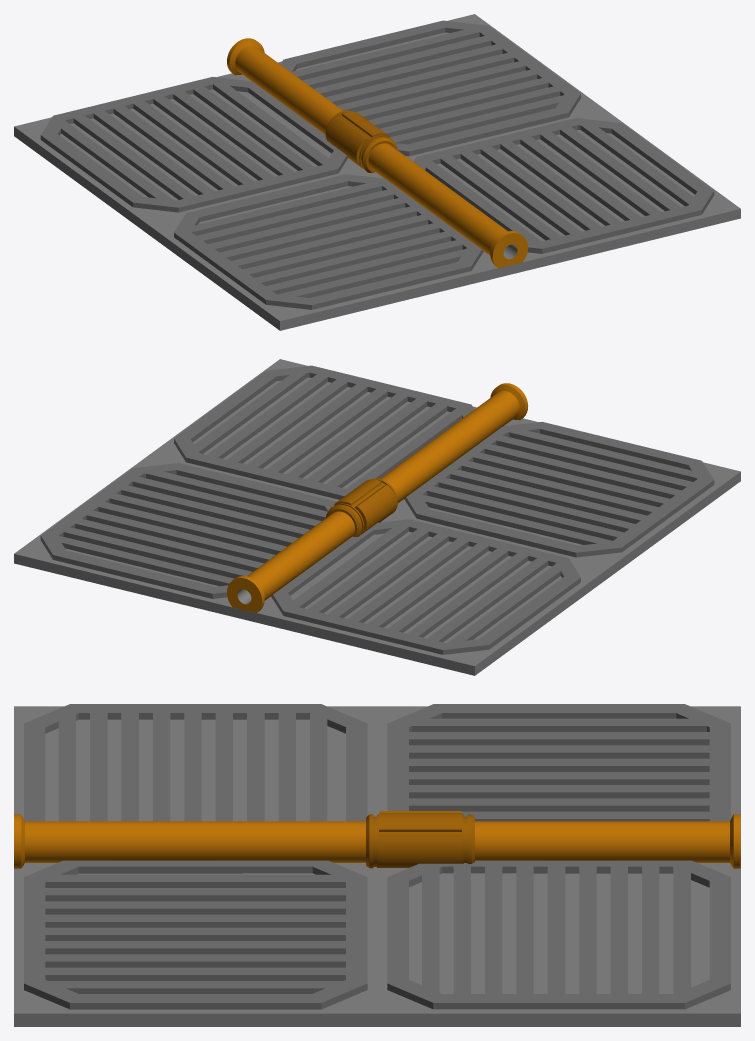
The model's file is Space_Ship_Set_6.fbx.
3 renders of one model, top to bottom at view 1: azimuth 30°, elevation 25°; view 2: azimuth 150°, elevation 25°; view 3: azimuth 270°, elevation 25°, orthographic. The views are drawn at different scales.
Visible parts, largest first — view 1: Space_Ship_Set_1_50mm_6; view 2: Space_Ship_Set_1_50mm_6; view 3: Space_Ship_Set_1_50mm_6.
Boxes of the visible parts, x1,y1,x2,y2 form: Space_Ship_Set_1_50mm_6: (14,14,740,330); Space_Ship_Set_1_50mm_6: (14,359,740,675); Space_Ship_Set_1_50mm_6: (14,704,740,1026).
Bounding box in the file's own units: 0.03 × 0.00267 × 0.03.
Materials: 1 (1 with a texture image).
